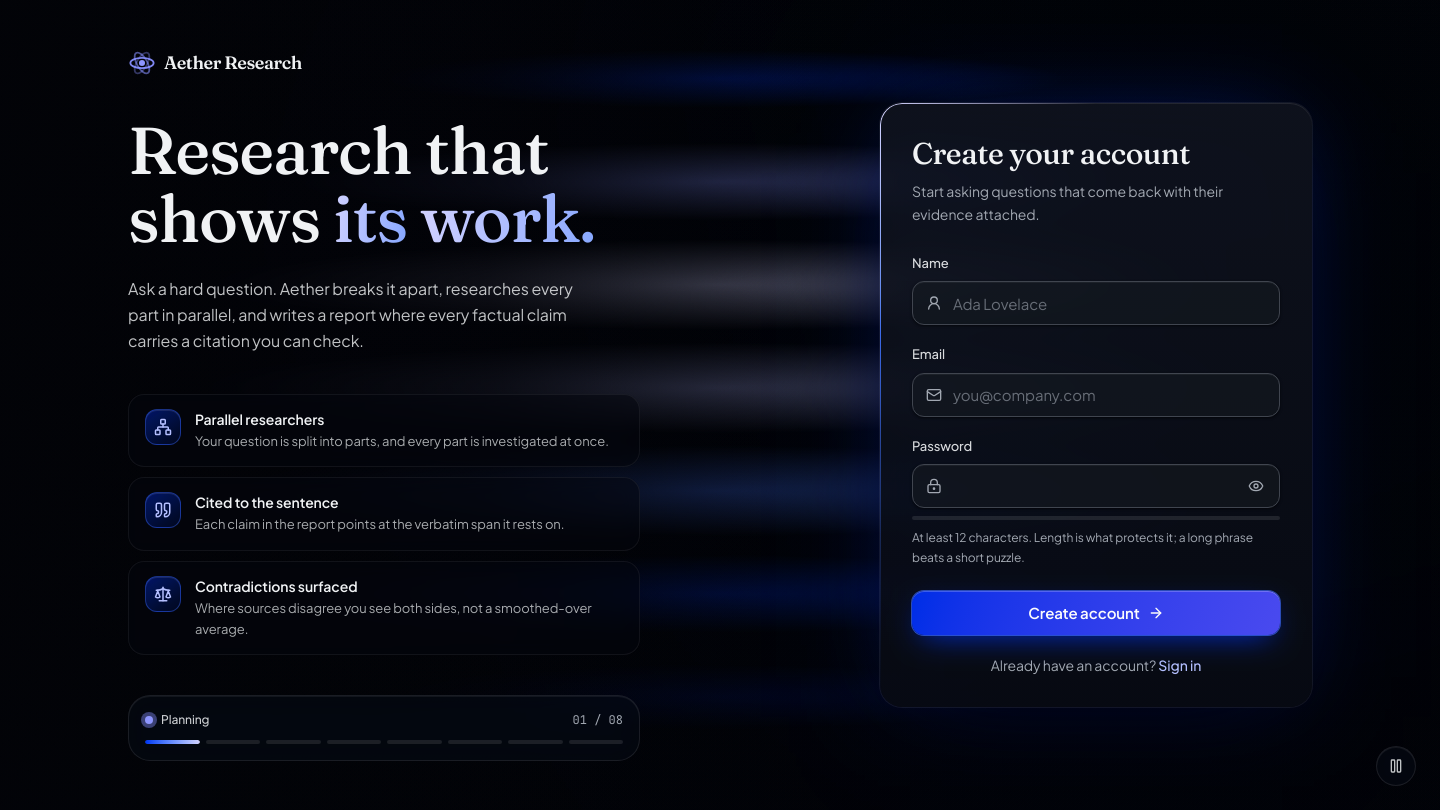
RegisterPage › shows a refusal that names no field as a message rather than losing it
Step 1. Type "ada@example.com" into the field labelled "Email" → point(1096, 395), box [912,373,1280,417]
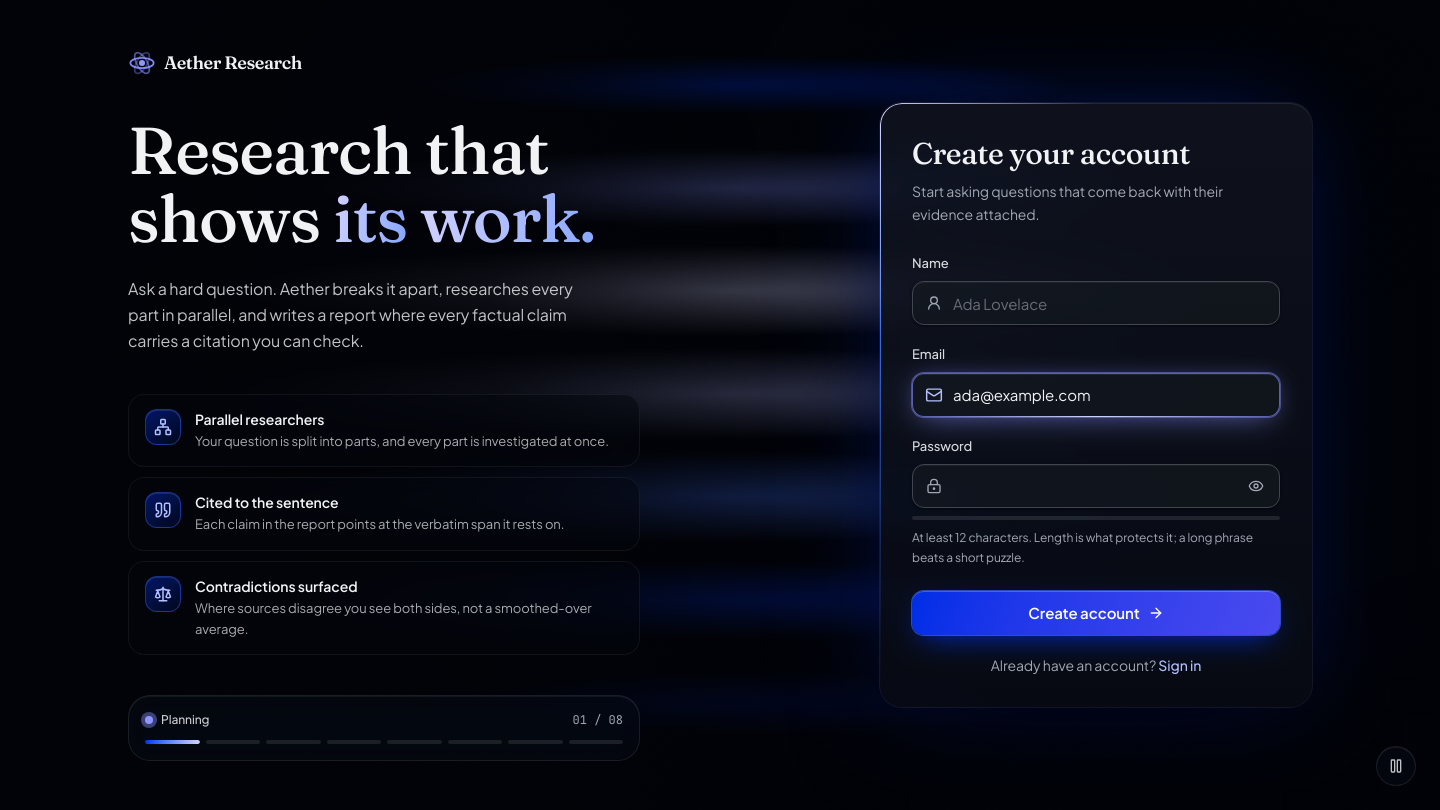
Step 2. Type "correct-horse-battery-staple" into the password field labelled "Password" → point(1096, 486), box [912,464,1280,508]
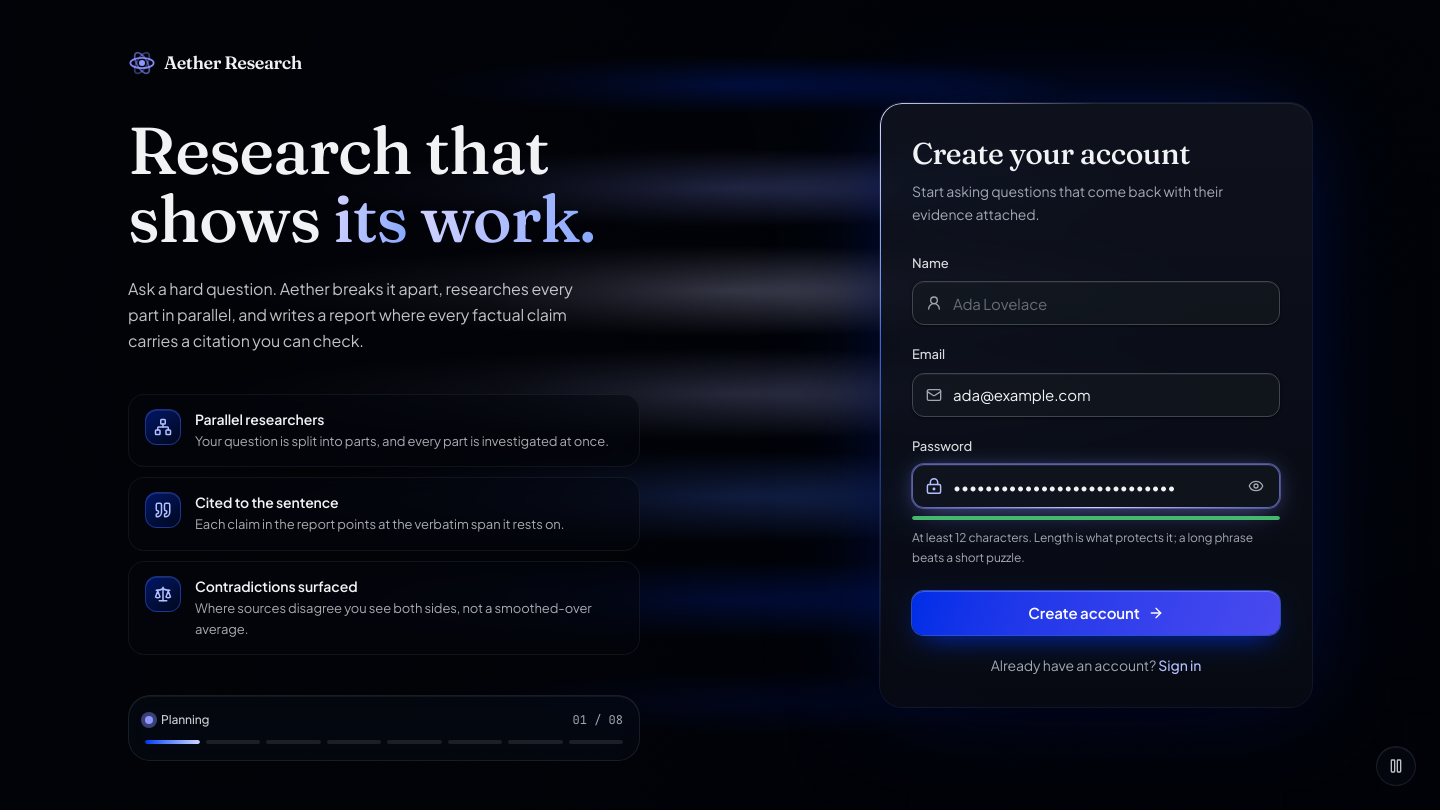
Step 3. Click the button with test id "register-submit" → point(1096, 613), box [912,591,1280,635]
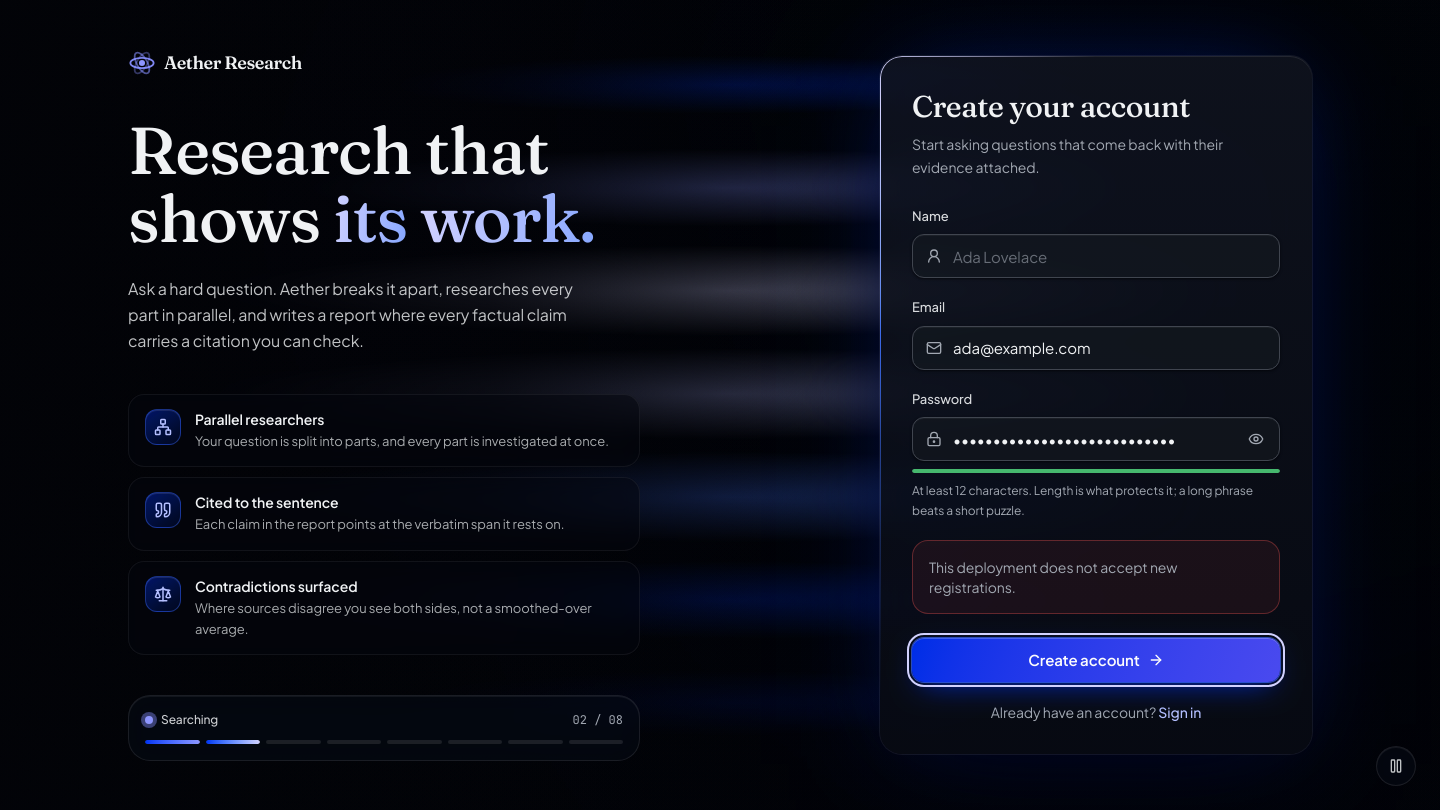
Expected: the text "This deployment does not accept new registrations." is shown, [929,558,1177,596]
